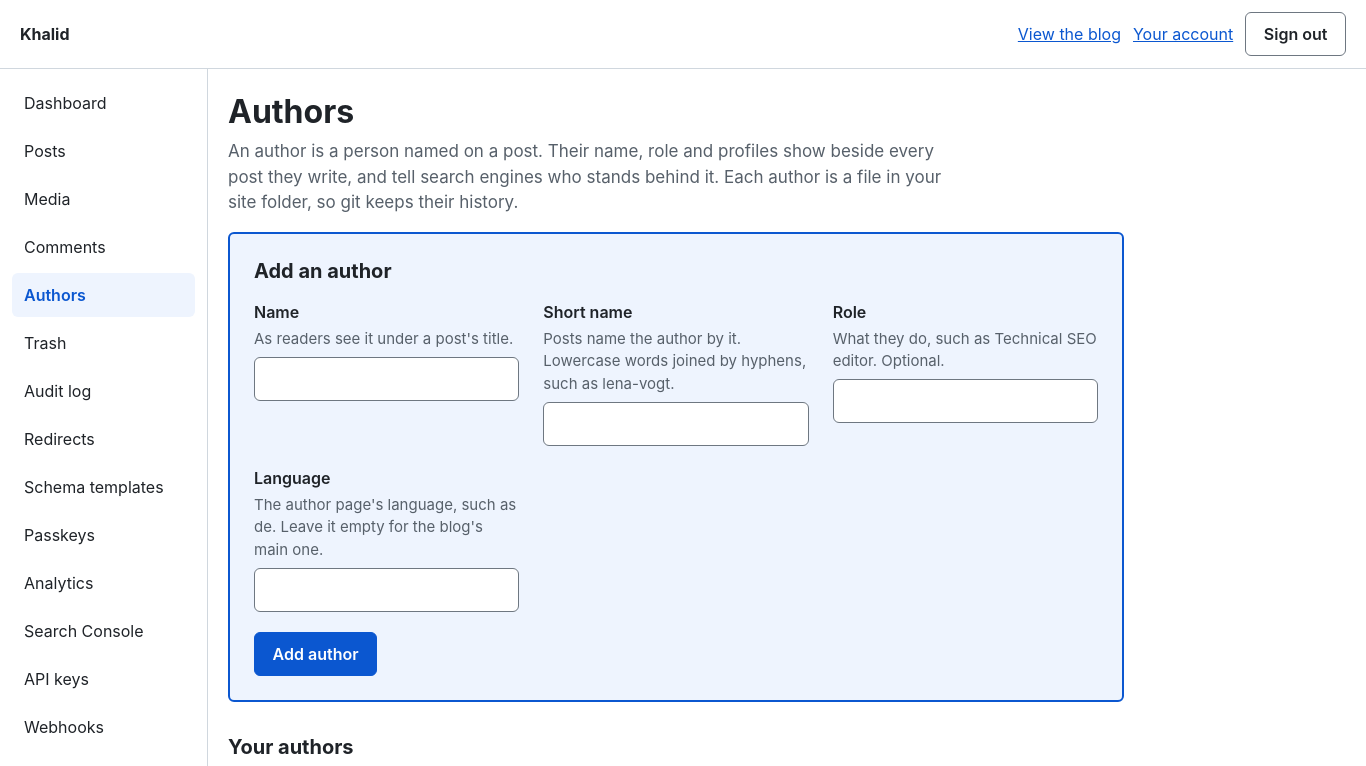
Test case: the Authors screen › adds an author, leaving out an empty role and language
Type "Mira Hoffmann" into the field labelled "Name" at (387, 379), box [254,357,519,401]
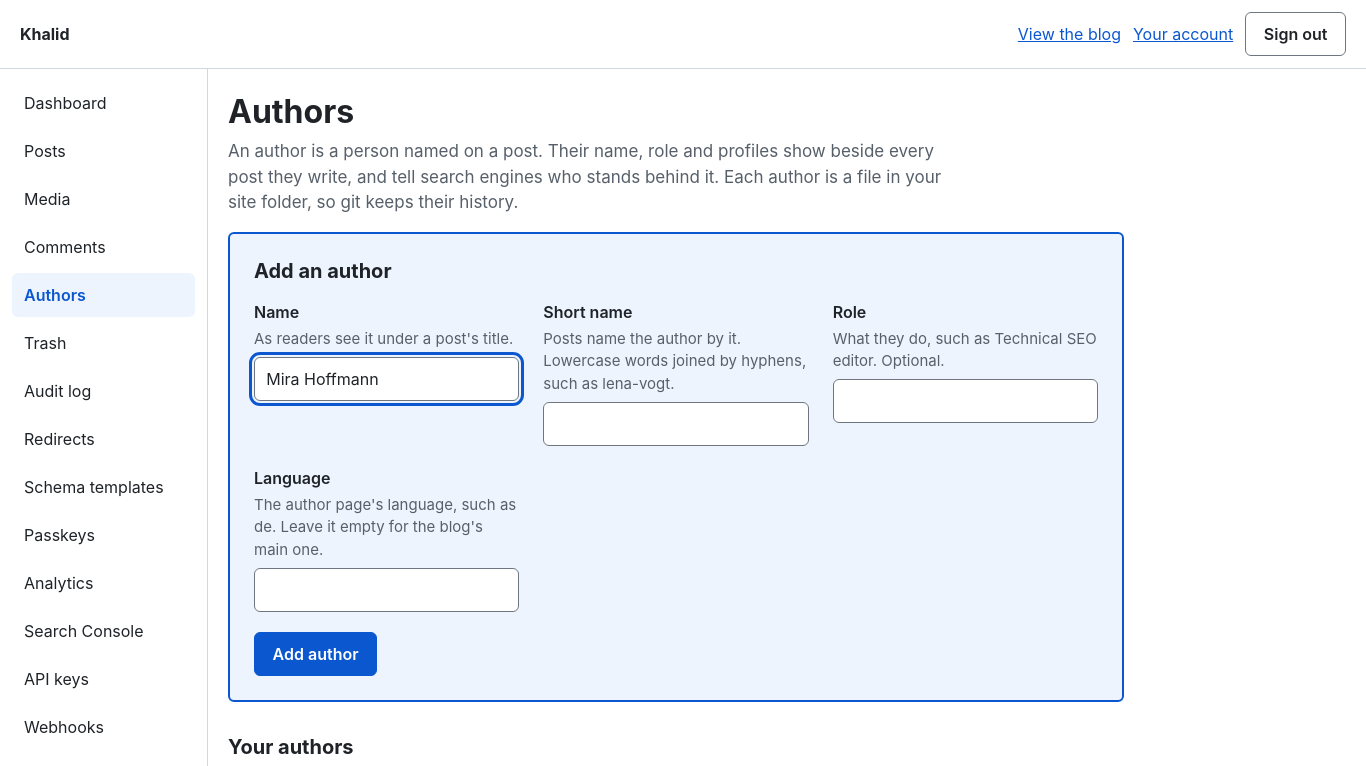
Type "mira-hoffmann" into the field labelled "Short name" at (676, 424), box [543,402,809,446]
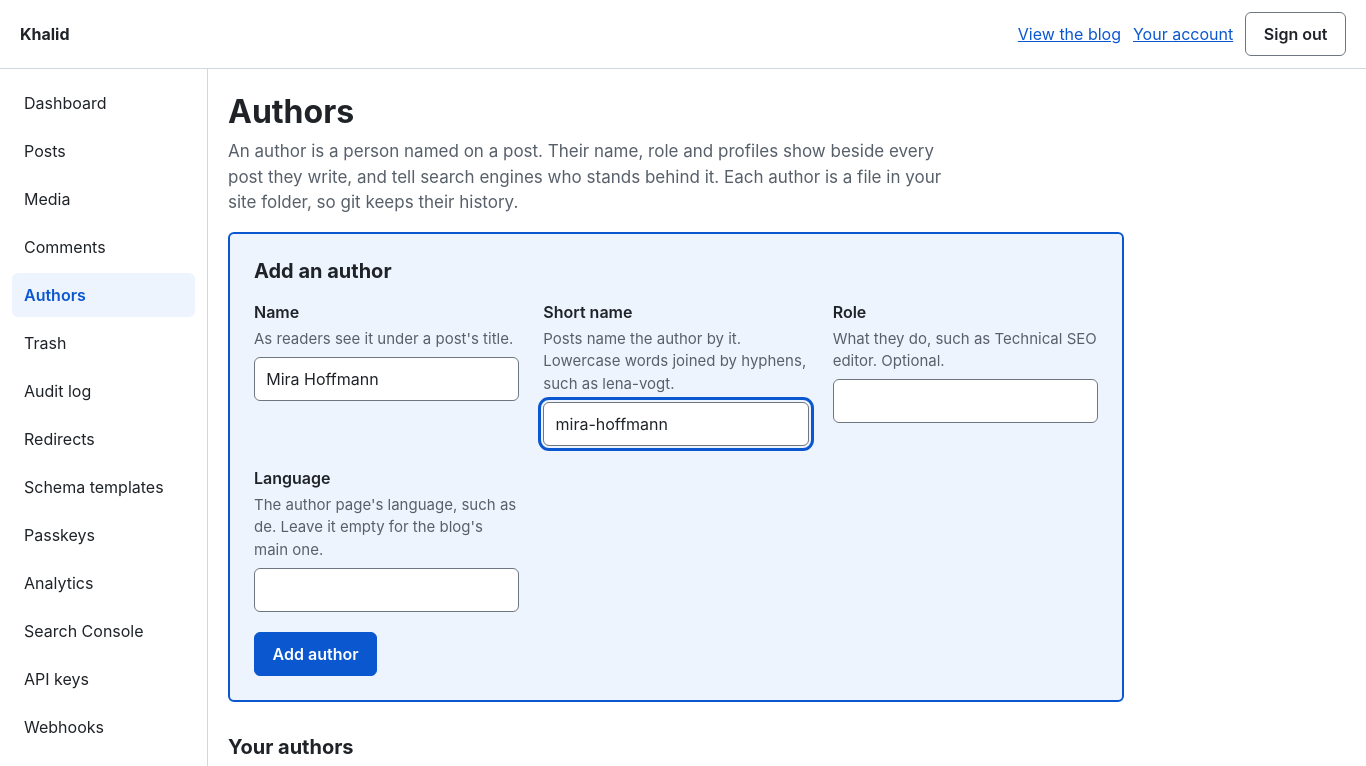
Click the button "Add author" at (316, 654), box [254,632,377,676]
(page scrolled)
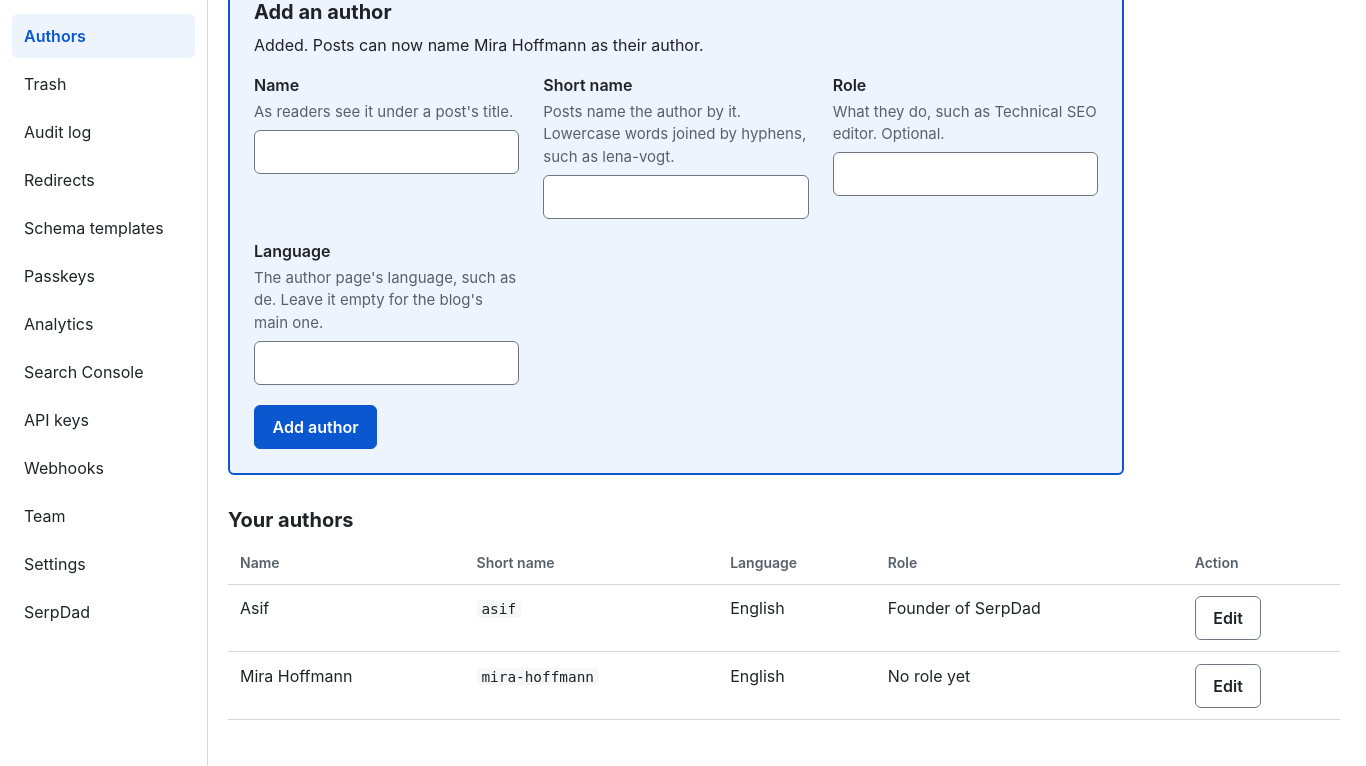
Now the text "No role yet" is shown, box [876,652,1183,719]
